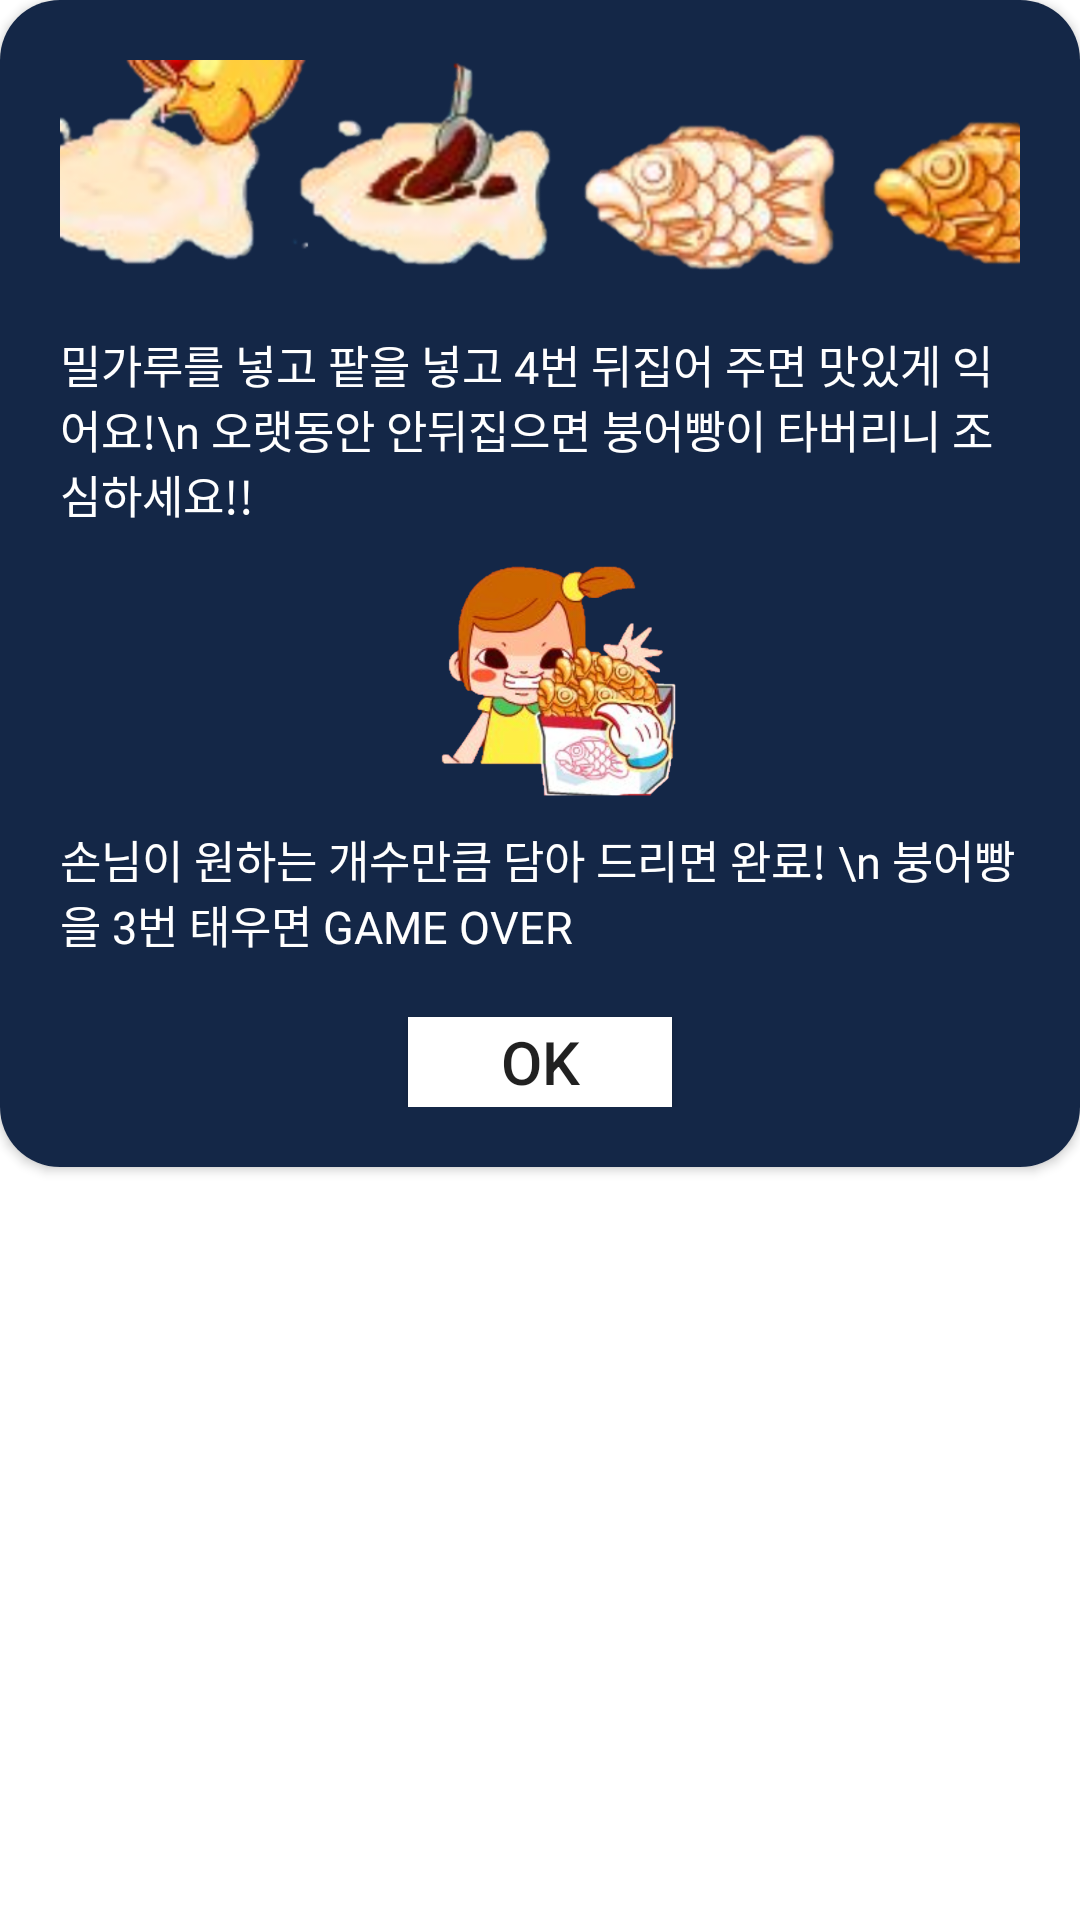

Icon bounding boxes for this 1080px×1920px phone screenshot, format (x1, y1, x2, y2):
manual person: (441, 566, 676, 796)
